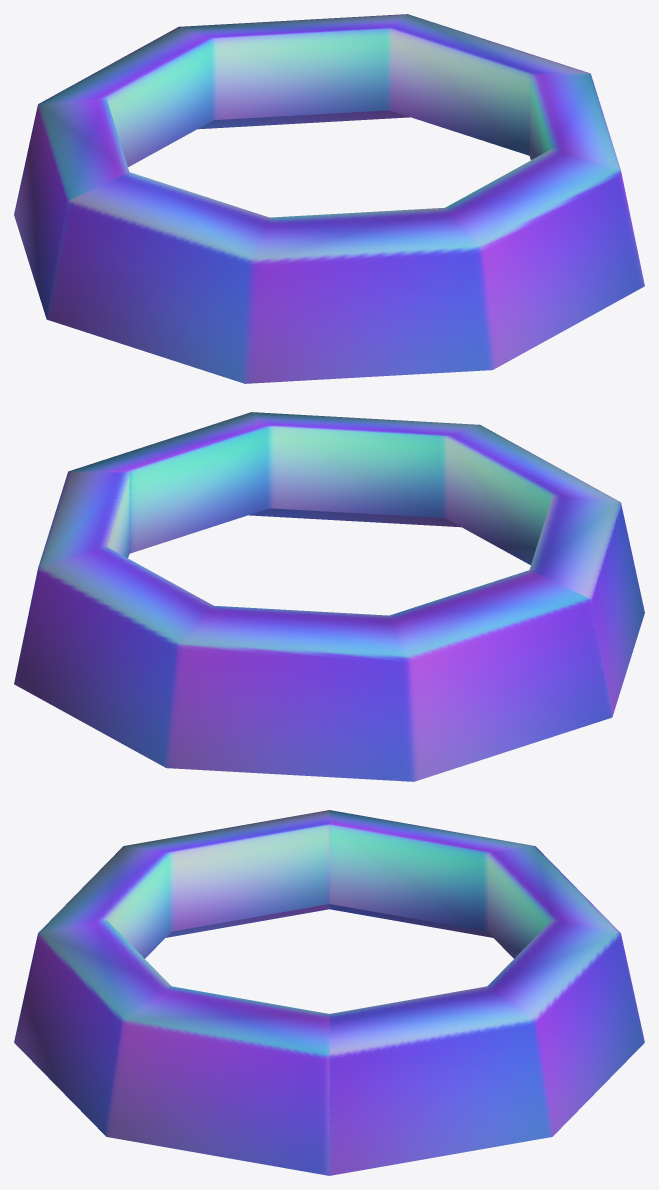
The model's file is OrionBase.obj.
3 views of the same model, one above another, from view 1: azimuth 30°, elevation 25°; view 2: azimuth 150°, elevation 25°; view 3: azimuth 270°, elevation 25° (orthographic). The views are drawn at different scales.
Visible parts, largest first — view 1: Sphere.010_Sphere.014; view 2: Sphere.010_Sphere.014; view 3: Sphere.010_Sphere.014.
Boxes of the visible parts, <box> form: Sphere.010_Sphere.014: <box>14,14,644,383</box>; Sphere.010_Sphere.014: <box>14,412,644,781</box>; Sphere.010_Sphere.014: <box>14,810,644,1175</box>.
Bounding box in the file's own units: 4.99 × 1.07 × 4.99.
